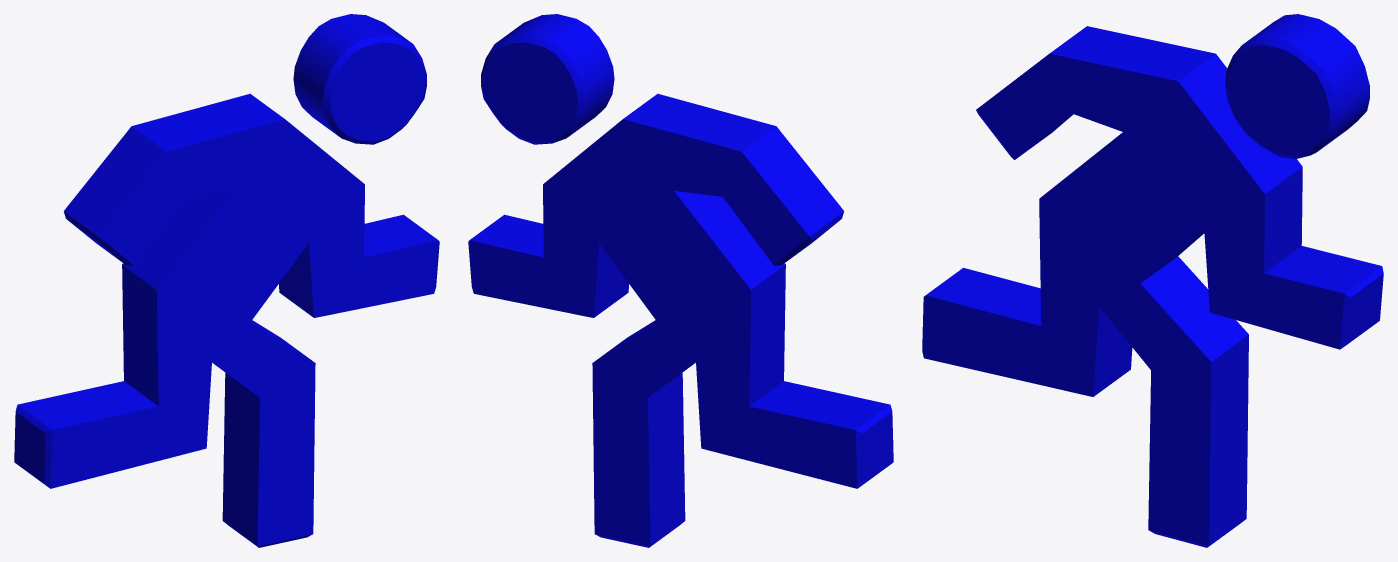
The model's file is Icon_Evacuation.FBX.
3 views of the same model, side by side, from view 1: azimuth 30°, elevation 25°; view 2: azimuth 150°, elevation 25°; view 3: azimuth 330°, elevation 25° (orthographic). The views are drawn at different scales.
Parts seen in each view (by area): view 1: Box001; view 2: Box001; view 3: Box001.
Boxes of the visible parts, box(x1,y1,x2,y2) form: Box001: box(14, 14, 439, 547); Box001: box(468, 14, 893, 547); Box001: box(922, 14, 1383, 547).
Size of the model in its own units: 98.49 by 115 by 15.
